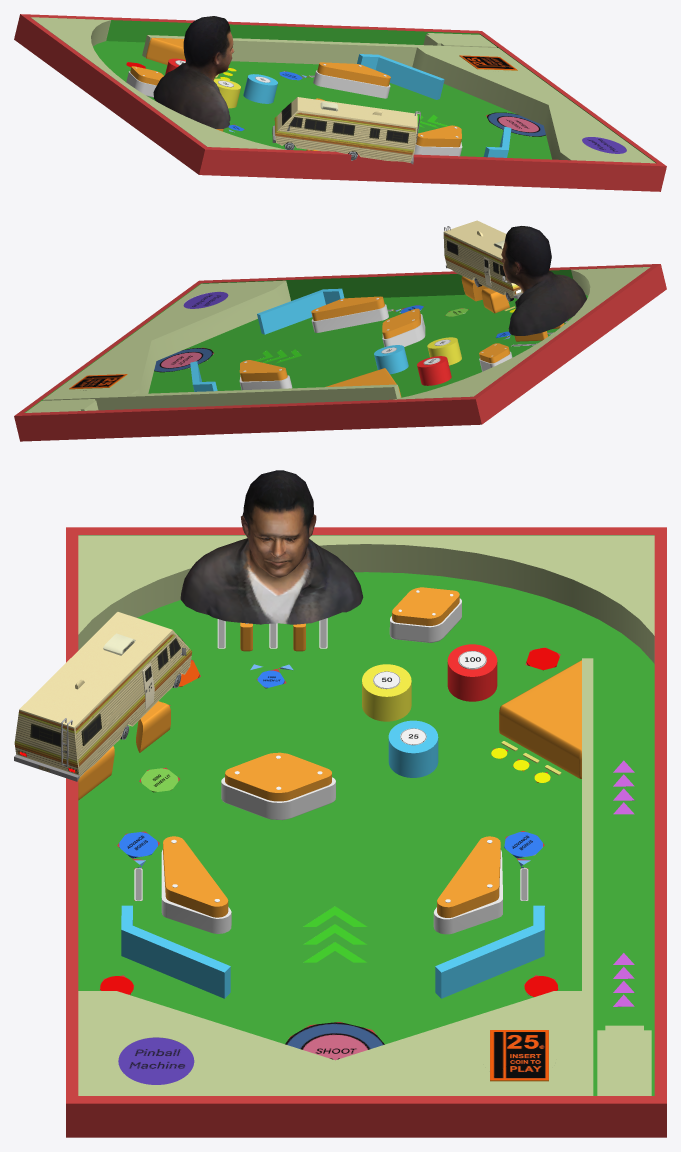
File: Pinballplayfield.glb
The picture shows the model from 3 angles, top to bottom: view 1: azimuth 30°, elevation 25°; view 2: azimuth 150°, elevation 25°; view 3: azimuth 270°, elevation 25°; orthographic projection. The views are drawn at different scales.
Parts seen in each view (by area): view 1: Cube_1_6, Cube_7_5, pasted__pCylinder6, model_obj_cleaner_materialmerger_gles, Cube_2_5, Cube_1_7, Cube_7_6, slingshot_2, slingshot_1_2, Cylinder_7, Cube_3_5, slingshot (+8 smaller); view 2: Cube_1_6, Cube_7_5, model_obj_cleaner_materialmerger_gles, Cube_2_5, Cube_1_7, pasted__pCylinder6, Cube_10_5, slingshot, slingshot_1, Cylinder_7, slingshot_2, Cylinder_1_8 (+11 smaller); view 3: Cube_1_6, Cube_7_5, Cube_1_7, model_obj_cleaner_materialmerger_gles, pasted__pCylinder6, Cube_3_5, Cube_2_5, Cube_7_6, Cube_10_5, Cube_6_7, Cube_4_7, slingshot (+14 smaller).
Part boxes in pixels (bbox=[...]): Cube_1_6: bbox=[14, 14, 666, 191]; Cube_7_5: bbox=[412, 44, 655, 163]; pasted__pCylinder6: bbox=[272, 97, 420, 164]; model_obj_cleaner_materialmerger_gles: bbox=[153, 16, 234, 128]; Cube_2_5: bbox=[142, 35, 416, 66]; Cube_1_7: bbox=[31, 17, 286, 149]; Cube_7_6: bbox=[375, 55, 444, 99]; slingshot_2: bbox=[317, 62, 390, 86]; slingshot_1_2: bbox=[313, 70, 390, 98]; Cylinder_7: bbox=[487, 112, 545, 136]; Cube_3_5: bbox=[146, 37, 185, 64]; slingshot: bbox=[416, 125, 461, 147]; Cube_1_6: bbox=[14, 264, 666, 441]; Cube_7_5: bbox=[43, 280, 290, 410]; model_obj_cleaner_materialmerger_gles: bbox=[501, 226, 586, 335]; Cube_2_5: bbox=[127, 384, 400, 409]; Cube_1_7: bbox=[393, 267, 650, 399]; pasted__pCylinder6: bbox=[443, 220, 522, 301]; Cube_10_5: bbox=[257, 289, 325, 334]; slingshot: bbox=[311, 296, 384, 320]; slingshot_1: bbox=[311, 304, 388, 332]; Cylinder_7: bbox=[154, 348, 213, 372]; slingshot_2: bbox=[239, 360, 287, 381]; Cylinder_1_8: bbox=[417, 356, 451, 385]; Cube_1_6: bbox=[66, 527, 666, 1137]; Cube_7_5: bbox=[78, 991, 593, 1095]; Cube_1_7: bbox=[78, 535, 654, 663]; model_obj_cleaner_materialmerger_gles: bbox=[180, 470, 363, 624]; pasted__pCylinder6: bbox=[14, 612, 192, 781]; Cube_3_5: bbox=[499, 660, 581, 778]; Cube_2_5: bbox=[582, 658, 593, 991]; Cube_7_6: bbox=[435, 923, 544, 998]; Cube_10_5: bbox=[121, 923, 230, 998]; Cube_6_7: bbox=[597, 1030, 651, 1095]; Cube_4_7: bbox=[225, 752, 331, 801]; slingshot: bbox=[163, 836, 228, 917].
Size of the model in its own units: 4.96 by 2.23 by 3.69.
Materials: 140 (15 with a texture image).
